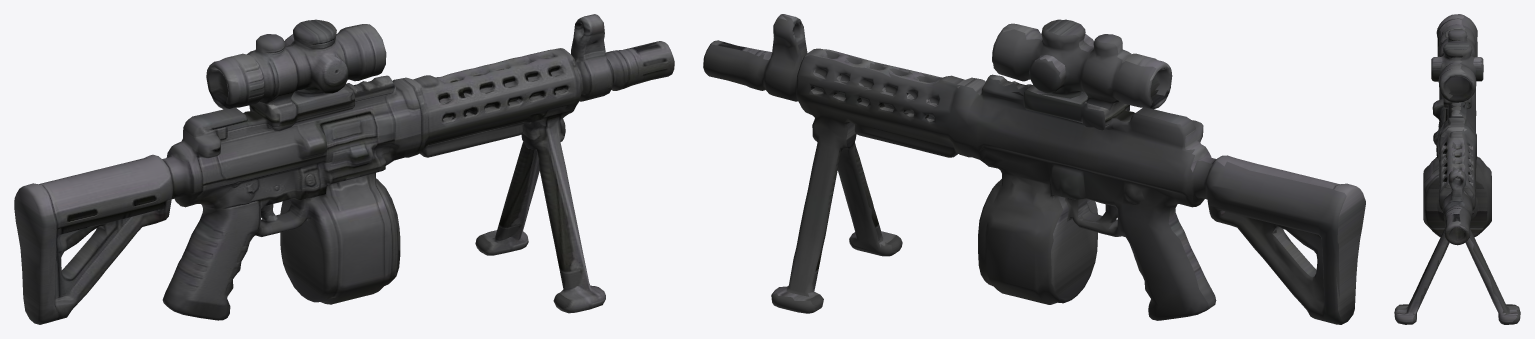
The picture shows the model from 3 angles, left to right: view 1: azimuth 30°, elevation 25°; view 2: azimuth 150°, elevation 25°; view 3: azimuth 270°, elevation 25°; orthographic projection. The views are drawn at different scales.
Parts seen in each view (by area): view 1: mg; view 2: mg; view 3: mg.
Part boxes in pixels (x1,y1,x2,y2): mg: [14, 14, 674, 324]; mg: [703, 14, 1365, 324]; mg: [1394, 14, 1520, 324].
Bounding box in the file's own units: 1.1 × 0.5028 × 0.2863.
1 material, 1 textured.
